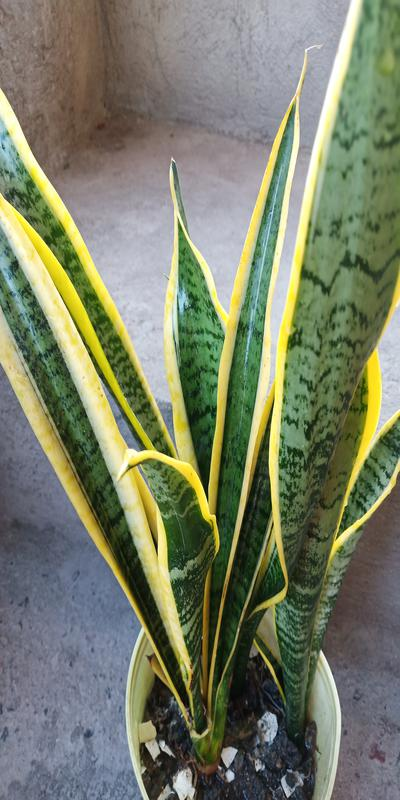Snake plant: (1, 61, 388, 730)
